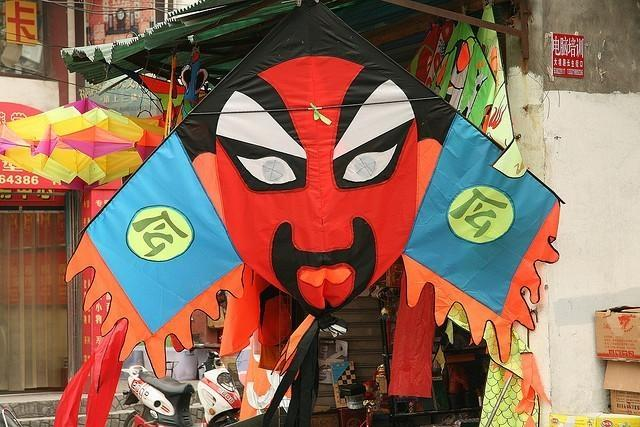motorcycle: (119, 343, 242, 427)
